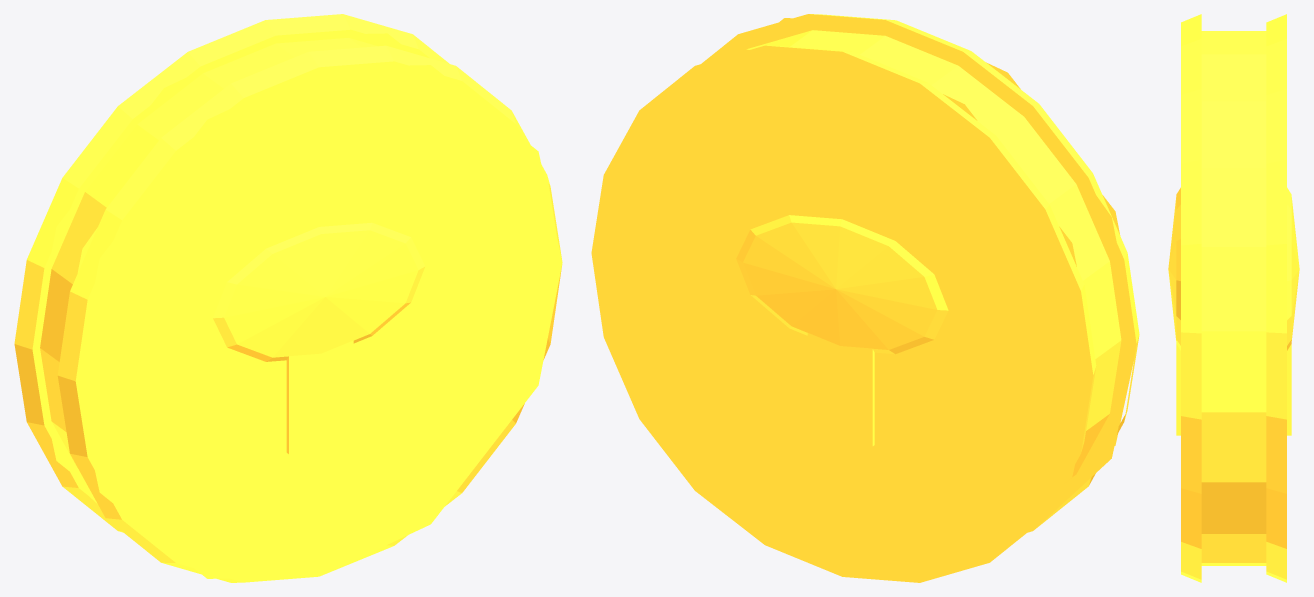
File: coin.glb
3 renders of one model, left to right at view 1: azimuth 30°, elevation 25°; view 2: azimuth 150°, elevation 25°; view 3: azimuth 270°, elevation 25°, orthographic.
Visible parts, largest first — view 1: RC_Coin; view 2: RC_Coin; view 3: RC_Coin.
Part boxes in pixels (x1,y1,x2,y2): RC_Coin: [14, 14, 562, 582]; RC_Coin: [591, 14, 1139, 582]; RC_Coin: [1168, 14, 1299, 582].
Bounding box in the file's own units: 1.24 × 1.24 × 0.284.
